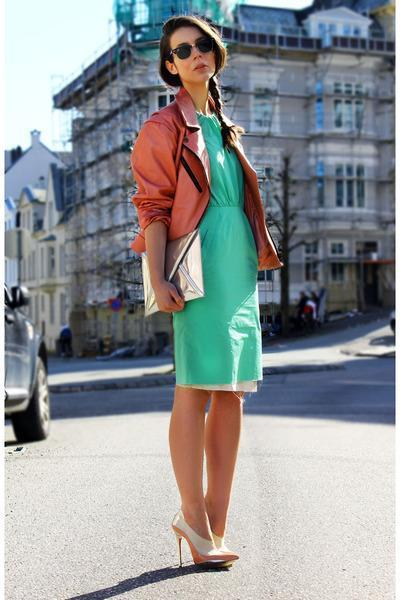bag: (142, 221, 203, 315)
dress: (156, 115, 275, 391)
jacket: (130, 84, 283, 270)
shoe: (172, 516, 238, 570)
sunglass: (180, 18, 212, 58)
